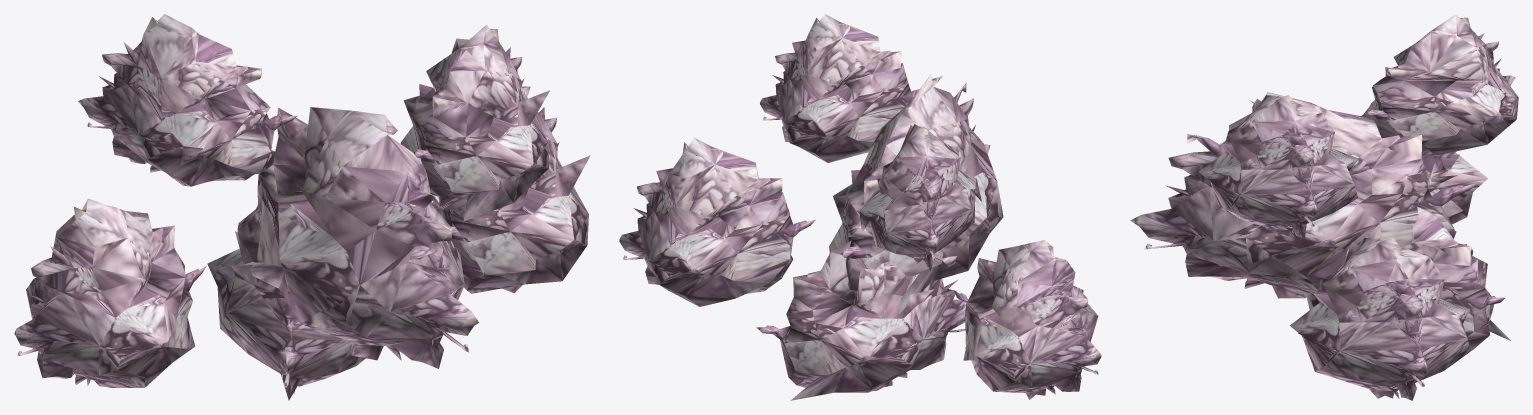
File: cloud_bonsai_bud.glb
3 views of the same model, side by side, from view 1: azimuth 30°, elevation 25°; view 2: azimuth 150°, elevation 25°; view 3: azimuth 270°, elevation 25° (orthographic). The views are drawn at different scales.
Visible parts, largest first — view 1: Mesh; view 2: Mesh; view 3: Mesh.
Part boxes in pixels (x1,y1,x2,y2): Mesh: (14,14,590,400); Mesh: (619,14,1101,400); Mesh: (1130,14,1518,400).
Bounding box in the file's own units: 1.42 × 0.9035 × 1.02.
1 material, 1 textured.
